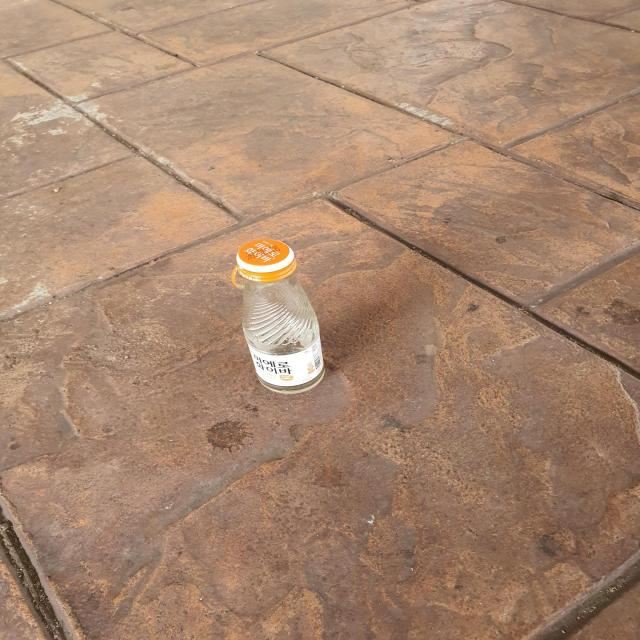glass: (230, 239, 324, 394)
